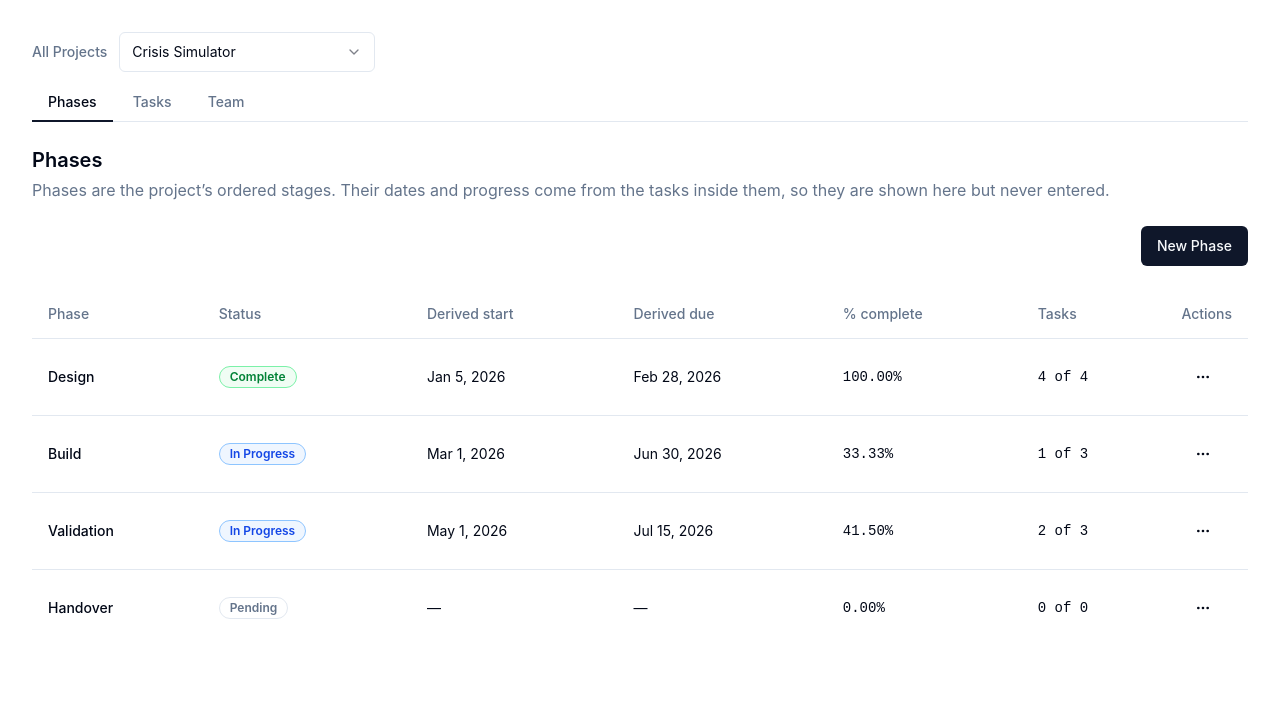
Test: Phases screen › says a phase has no tasks when nothing will be cascaded
expect the text "Handover" is shown: met, box [32,569,203,646]
Click the button named "Phase actions for Handover". click: coordinates (1203, 608)
box: [1181,586,1225,630]
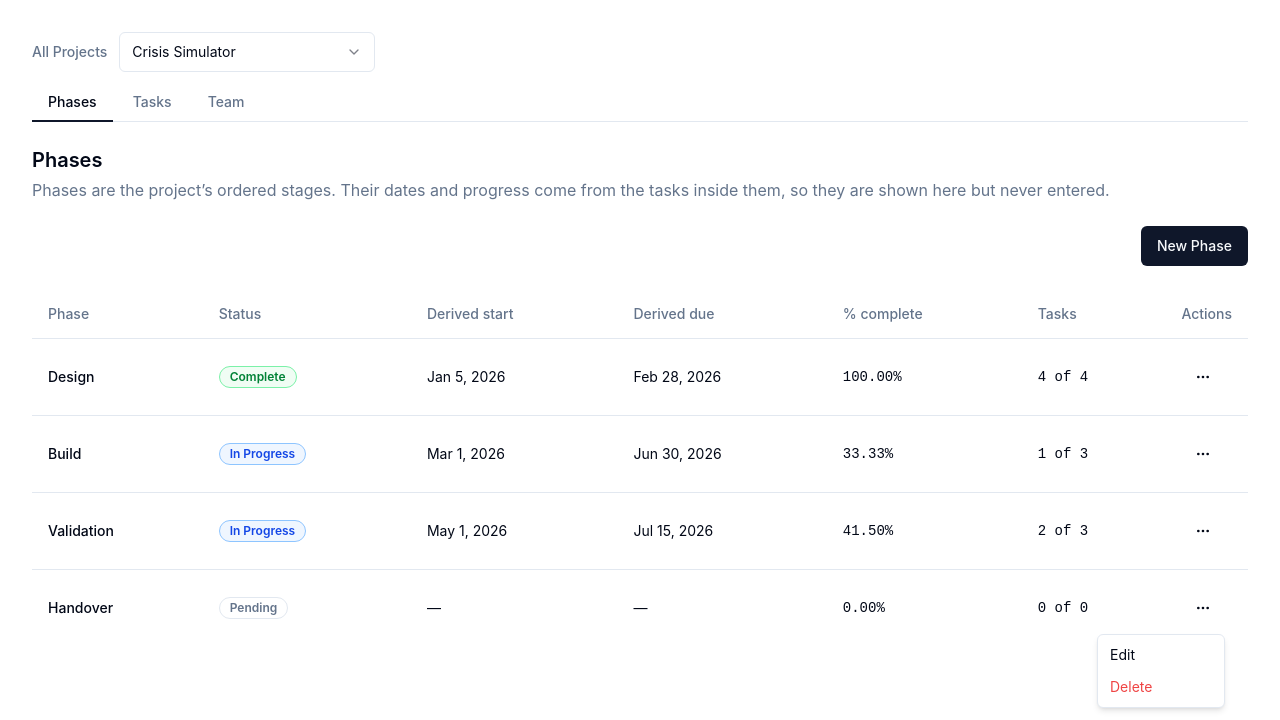
Click the menu item "Delete". click: coordinates (1131, 686)
box: [1110,678,1152,695]
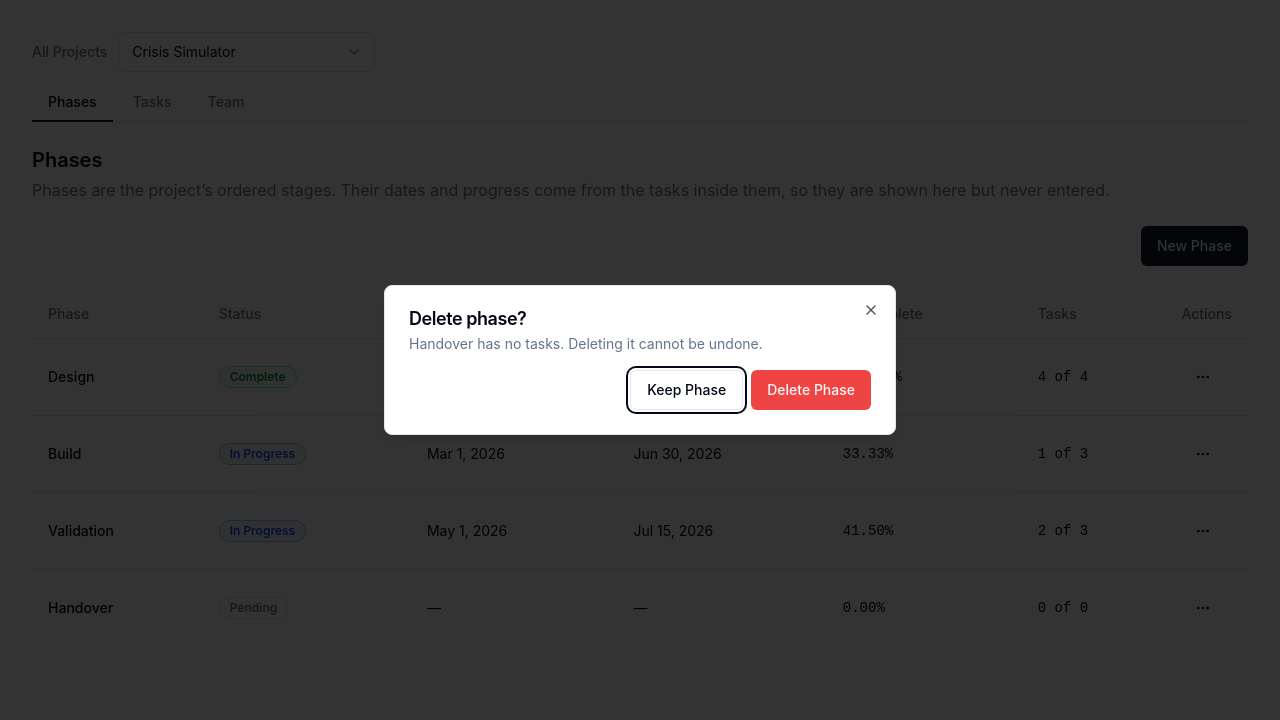
expect the text "Handover has no tasks. Deleting it cannot be undone." is shown: met, box [409,335,763,352]
